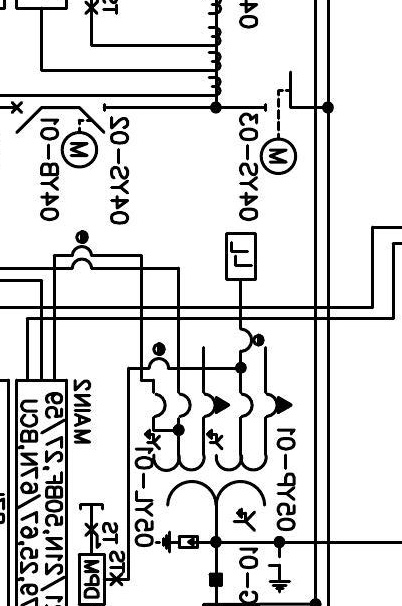115_1way_ds_w_motor: (258, 70, 297, 177), (60, 103, 107, 170)
115_breaker: (10, 101, 42, 134)
115_gs: (267, 554, 292, 595)
115_la: (154, 530, 199, 555)
115_vt_3p: (143, 392, 294, 533)
LL: (224, 232, 258, 282)
